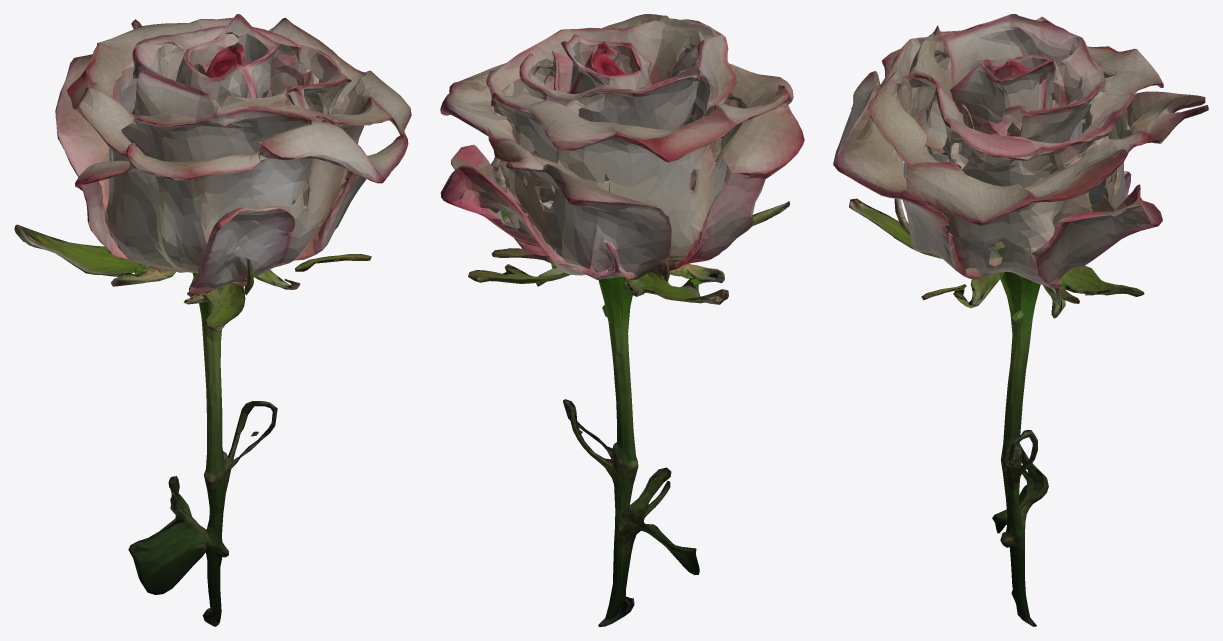
3 views of the same model, side by side, from view 1: azimuth 30°, elevation 25°; view 2: azimuth 150°, elevation 25°; view 3: azimuth 270°, elevation 25° (orthographic). The views are drawn at different scales.
Parts seen in each view (by area): view 1: world; view 2: world; view 3: world.
Part boxes in pixels (x1,y1,x2,y2): world: (14,14,411,626); world: (440,14,804,626); world: (833,14,1208,626).
Size of the model in its own units: 0.5731 by 0.9656 by 0.5657.
1 material, 1 textured.
